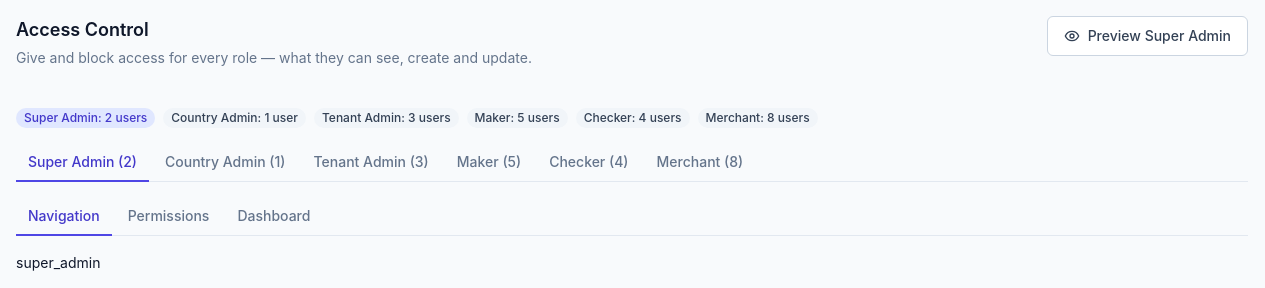
AccessControlPage — TC-1 › switching role tabs re-renders each editor for the newly selected role
Step 1. Click the tab "Maker (5)" → (489,163), box [445, 144, 533, 182]
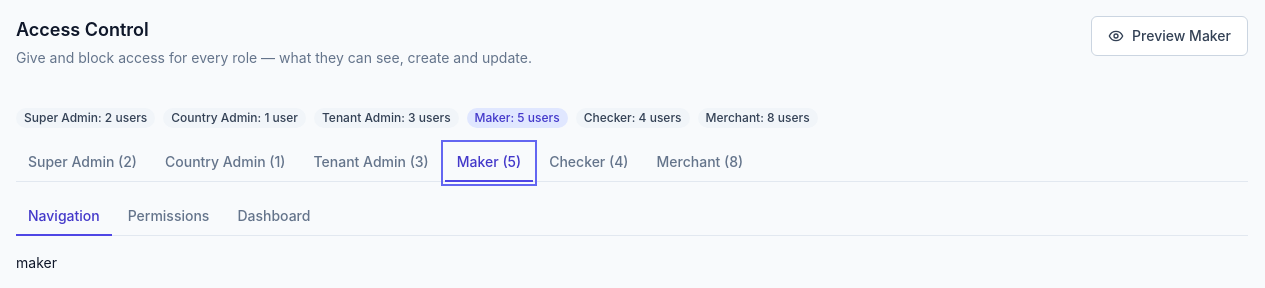
Result: the text with test id "nav-editor" reads "maker" at [16, 254, 57, 271]
